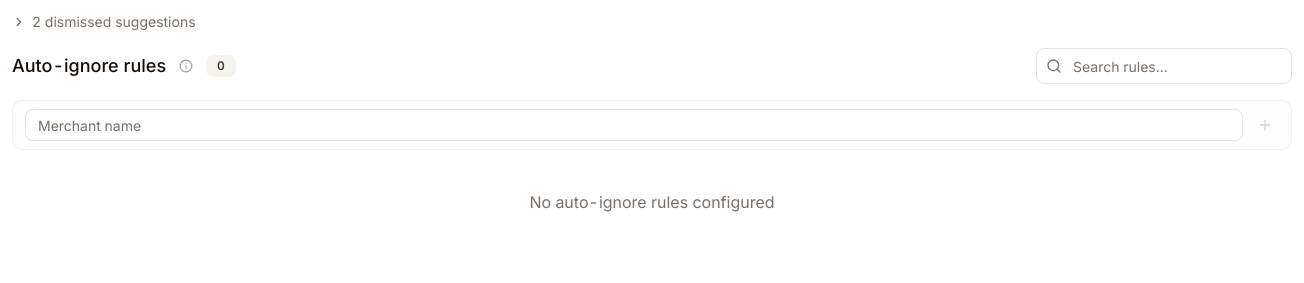
Test: AutoIgnoreRulesSection dismissed suggestions › shows a count line and reveals rows on expand
The image size is (1304, 283).
Expected: the text "Costco" is not shown
Click the button "2 dismissed suggestions" at (104,22), box [12,12,196,32]
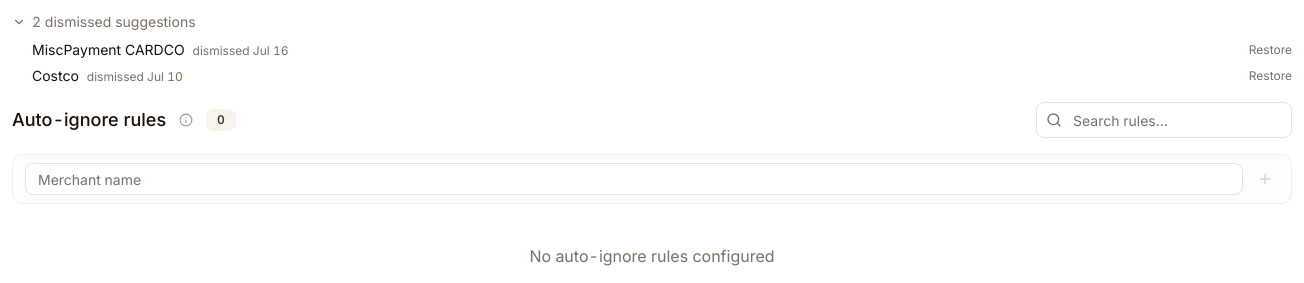
Expected: the text "MiscPayment CARDCO" is shown, [32,40,185,60]
Expected: the text "Costco" is shown, [32,66,79,86]
